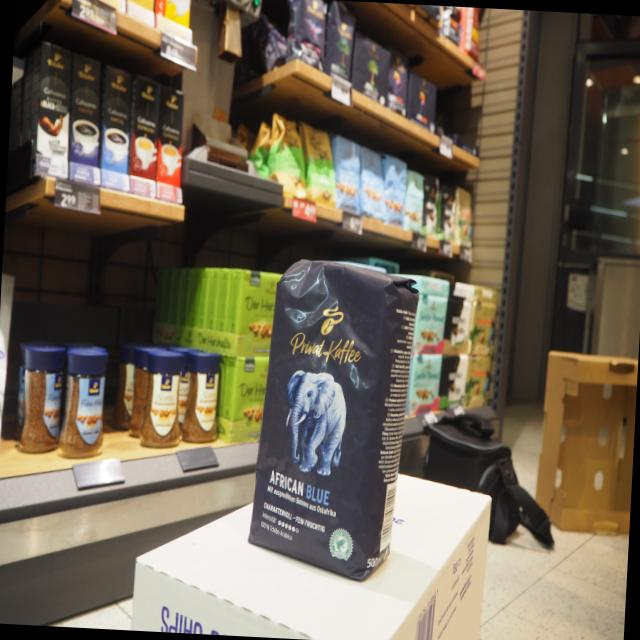AB Bohne: (245, 250, 423, 597)
